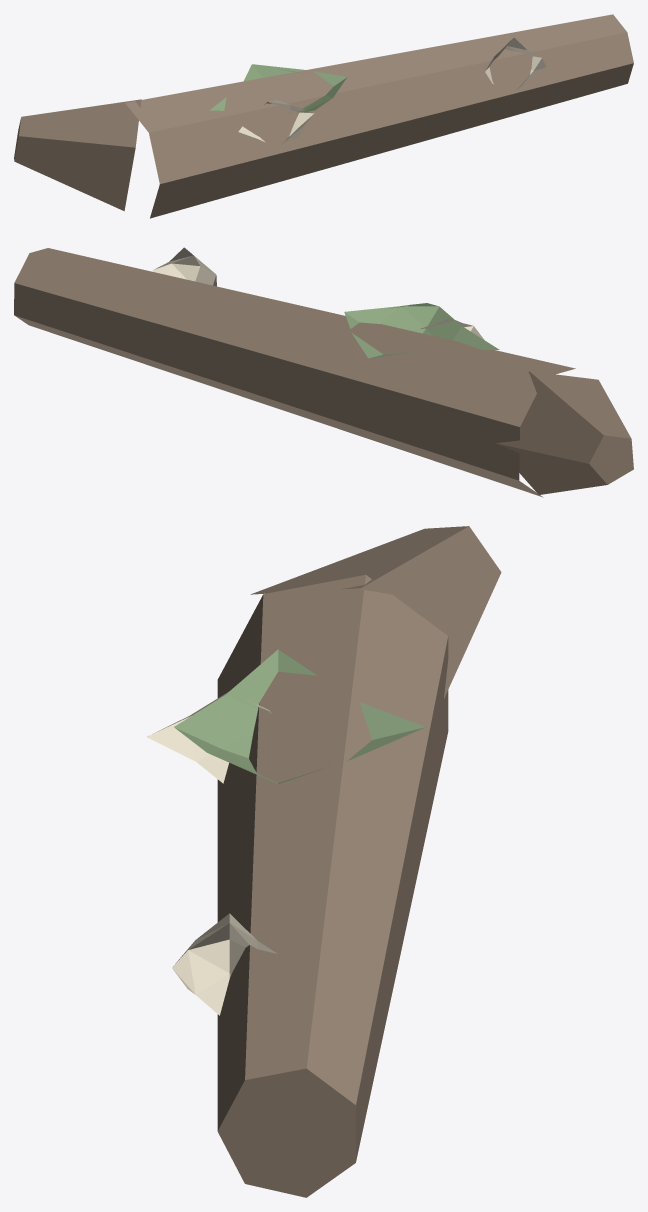
File: log_v36.glb
3 views of the same model, one above another, from view 1: azimuth 30°, elevation 25°; view 2: azimuth 150°, elevation 25°; view 3: azimuth 270°, elevation 25° (orthographic). The views are drawn at different scales.
Visible parts, largest first — view 1: lod0; view 2: lod0; view 3: lod0.
Part boxes in pixels (box(x1,y1,x2,y2)): lod0: box(14, 14, 633, 218); lod0: box(14, 247, 633, 497); lod0: box(147, 526, 501, 1197).
Size of what is drawn, in the model's own units: 2.17 by 0.4398 by 0.5849.
